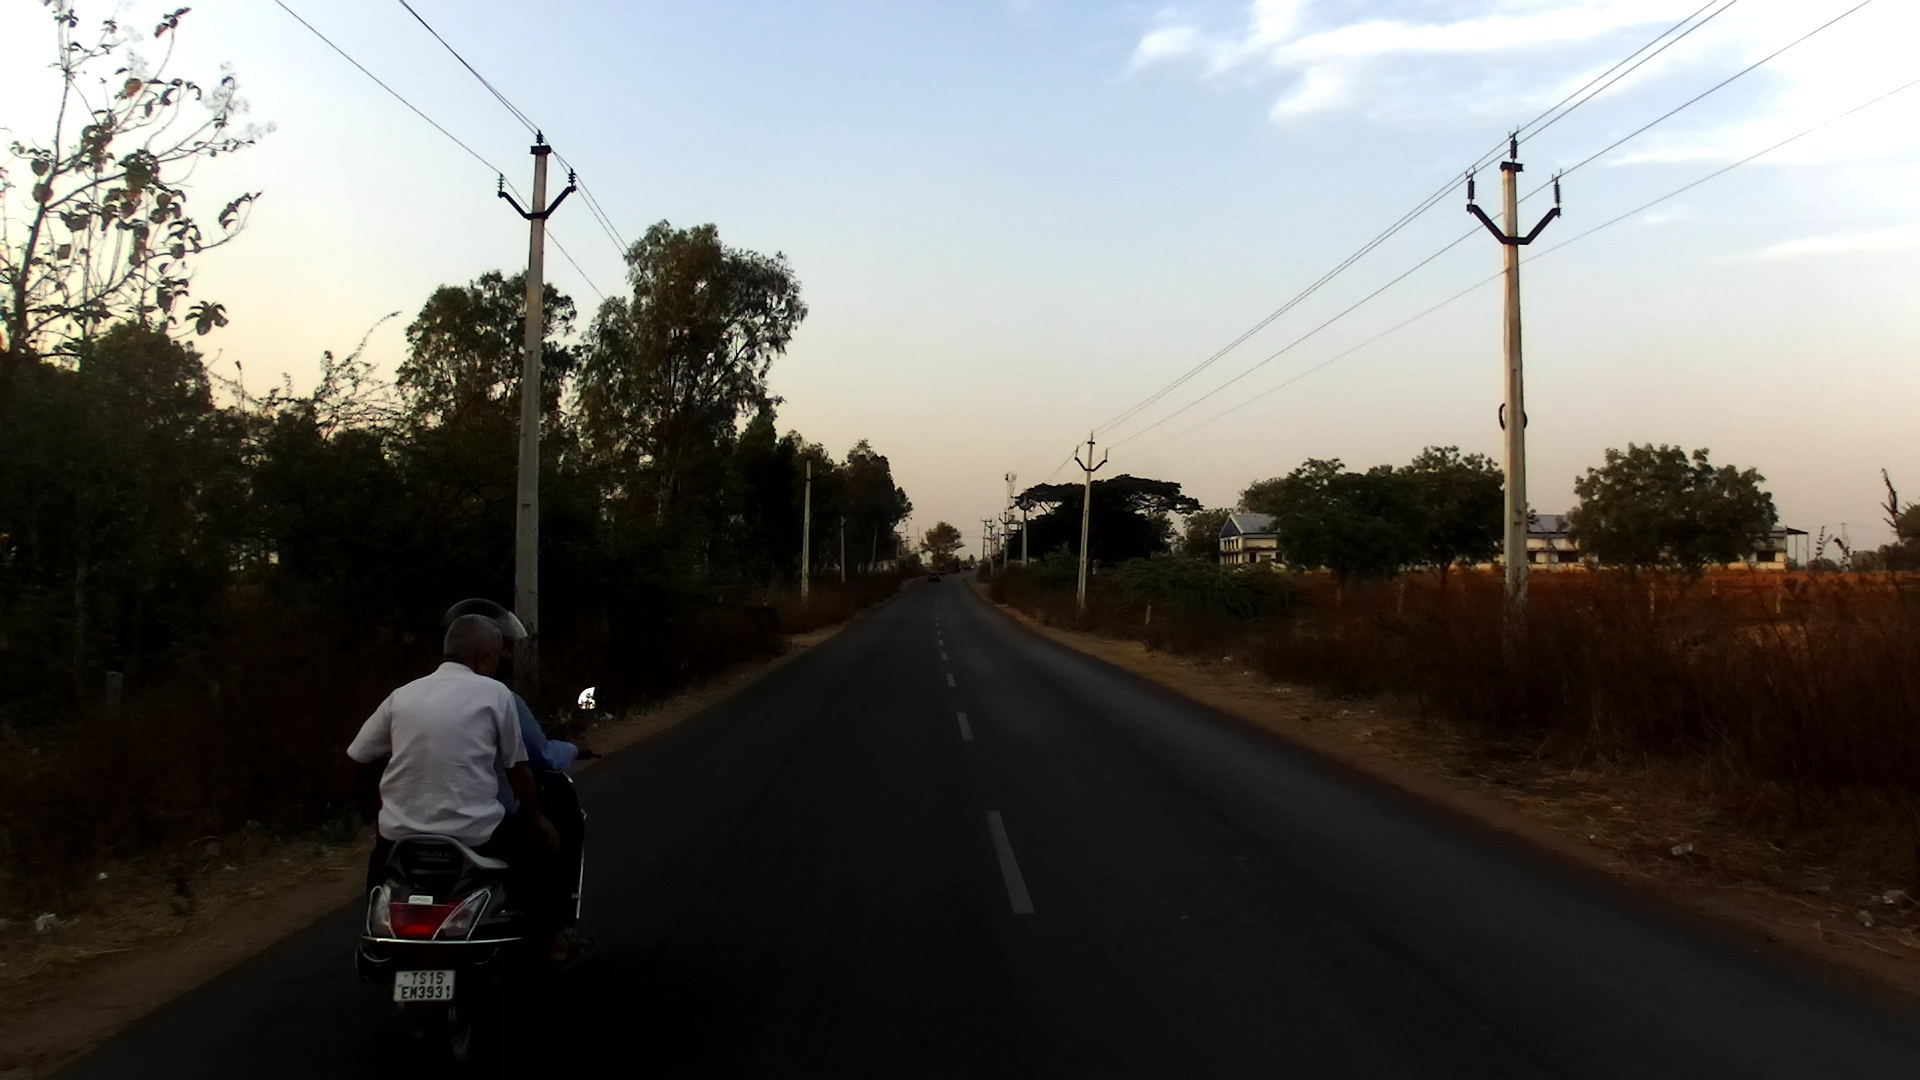autorickshaw: (933, 563, 948, 576)
car: (924, 568, 942, 584)
motorcycle: (355, 682, 631, 1080)
rider: (345, 612, 595, 983), (440, 600, 583, 893)
